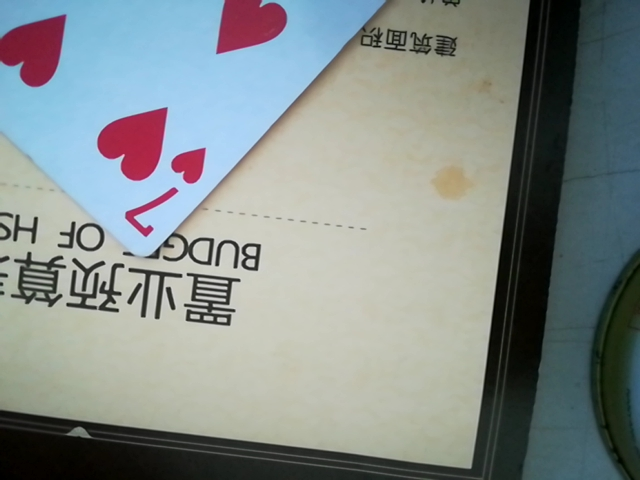hx 7: (3, 0, 420, 255)
